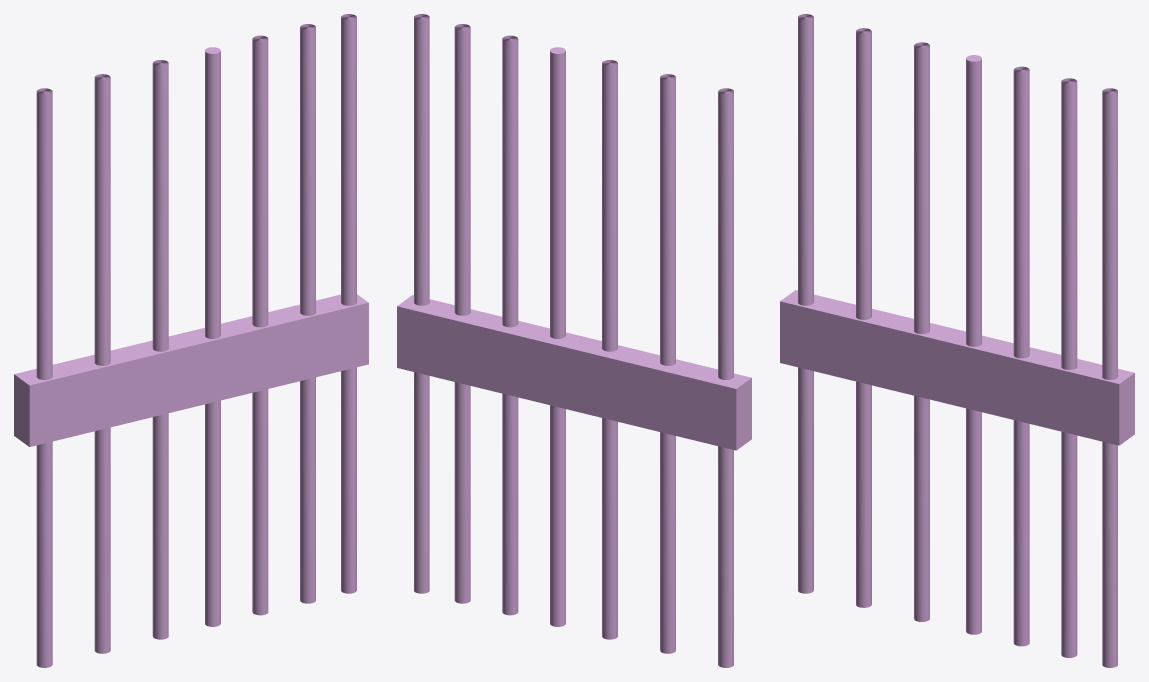
Rendered from cancello.fbx.
The picture shows the model from 3 angles, left to right: view 1: azimuth 30°, elevation 25°; view 2: azimuth 150°, elevation 25°; view 3: azimuth 330°, elevation 25°; orthographic projection.
Visible parts, largest first — view 1: Cylinder.025; view 2: Cylinder.025; view 3: Cylinder.025.
Part boxes in pixels (x1=…): Cylinder.025: x1=14, y1=14, x2=368, y2=667; Cylinder.025: x1=397, y1=14, x2=751, y2=667; Cylinder.025: x1=780, y1=14, x2=1134, y2=667.
Bounding box in the file's own units: 708 × 1142 × 56.01.
